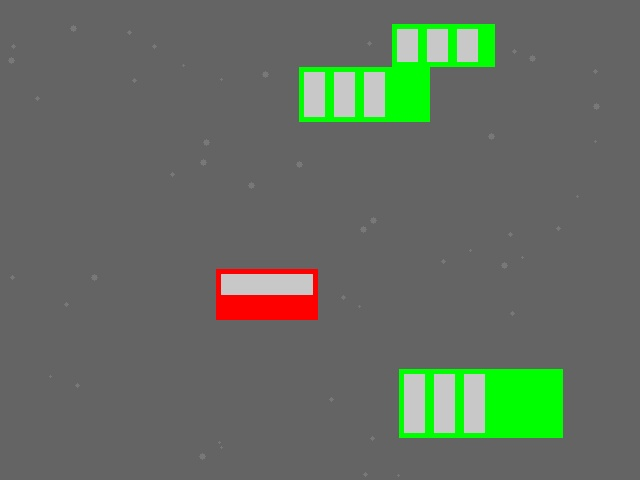bus: (399, 369, 562, 437), (299, 67, 429, 121), (392, 24, 494, 66)
car: (216, 269, 317, 319)
